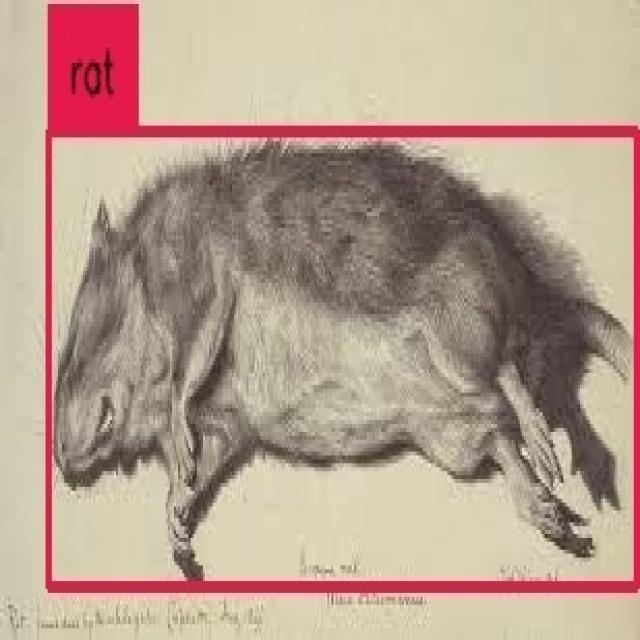rat: (48, 130, 636, 589)
